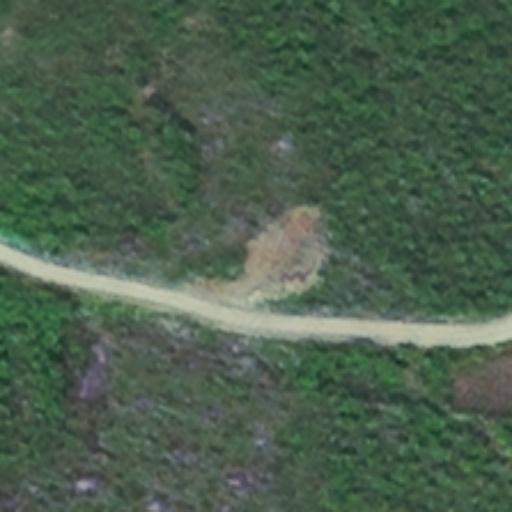landslide: (226, 202, 325, 300)
